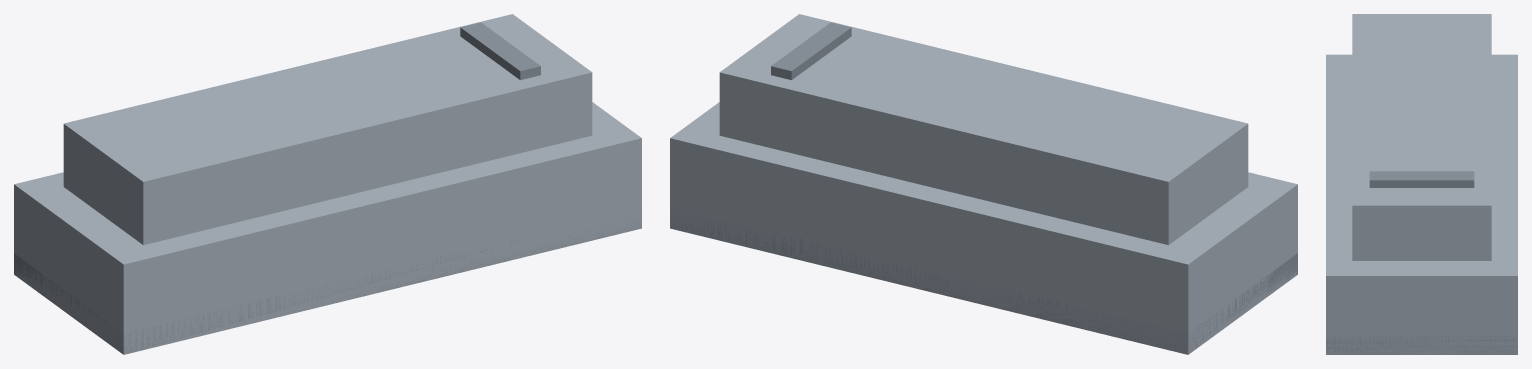
Rendered from item_iron_ingot.glb.
3 views of the same model, side by side, from view 1: azimuth 30°, elevation 25°; view 2: azimuth 150°, elevation 25°; view 3: azimuth 270°, elevation 25° (orthographic). The views are drawn at different scales.
Parts seen in each view (by area): view 1: iron, iron_dark; view 2: iron, iron_dark; view 3: iron, iron_dark.
Part boxes in pixels (x1=…): iron: x1=14, y1=14, x2=641, y2=354; iron_dark: x1=14, y1=22, x2=641, y2=354; iron: x1=670, y1=14, x2=1297, y2=354; iron_dark: x1=671, y1=22, x2=1297, y2=354; iron: x1=1326, y1=14, x2=1517, y2=354; iron_dark: x1=1326, y1=171, x2=1517, y2=354.
Size of the model in its own units: 0.3 by 0.09 by 0.11.
